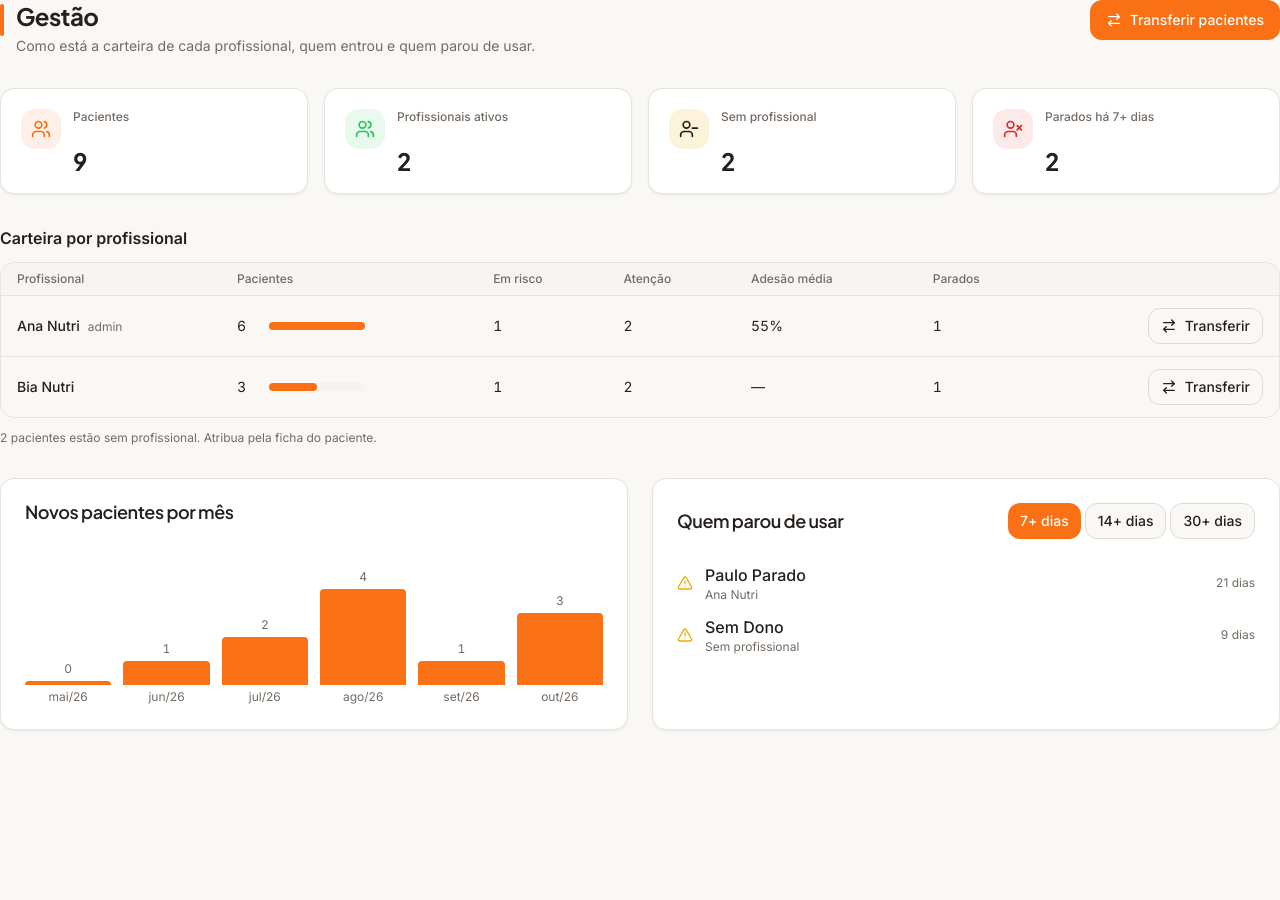
Test: ManagementPage › transferir sem destino ou sem seleção bloqueia
Click the button with aria-label "Transferir pacientes de Ana Nutri": click(1205, 326) [1148,308,1263,344]
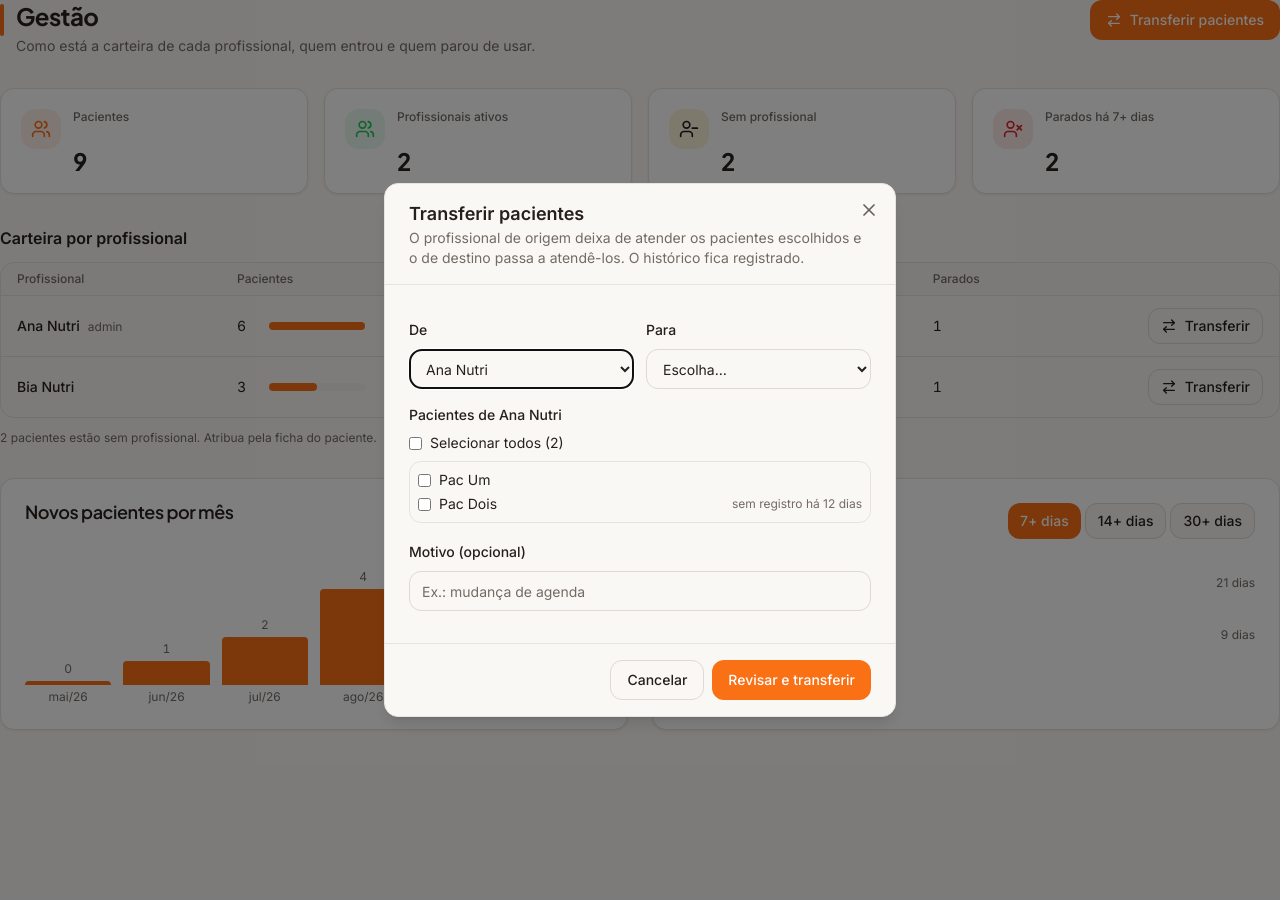
Result: the checkbox labelled "Pac Um" is shown at [418,474,431,486]
Click the button "Revisar e transferir": click(792, 680) [712,660,871,700]
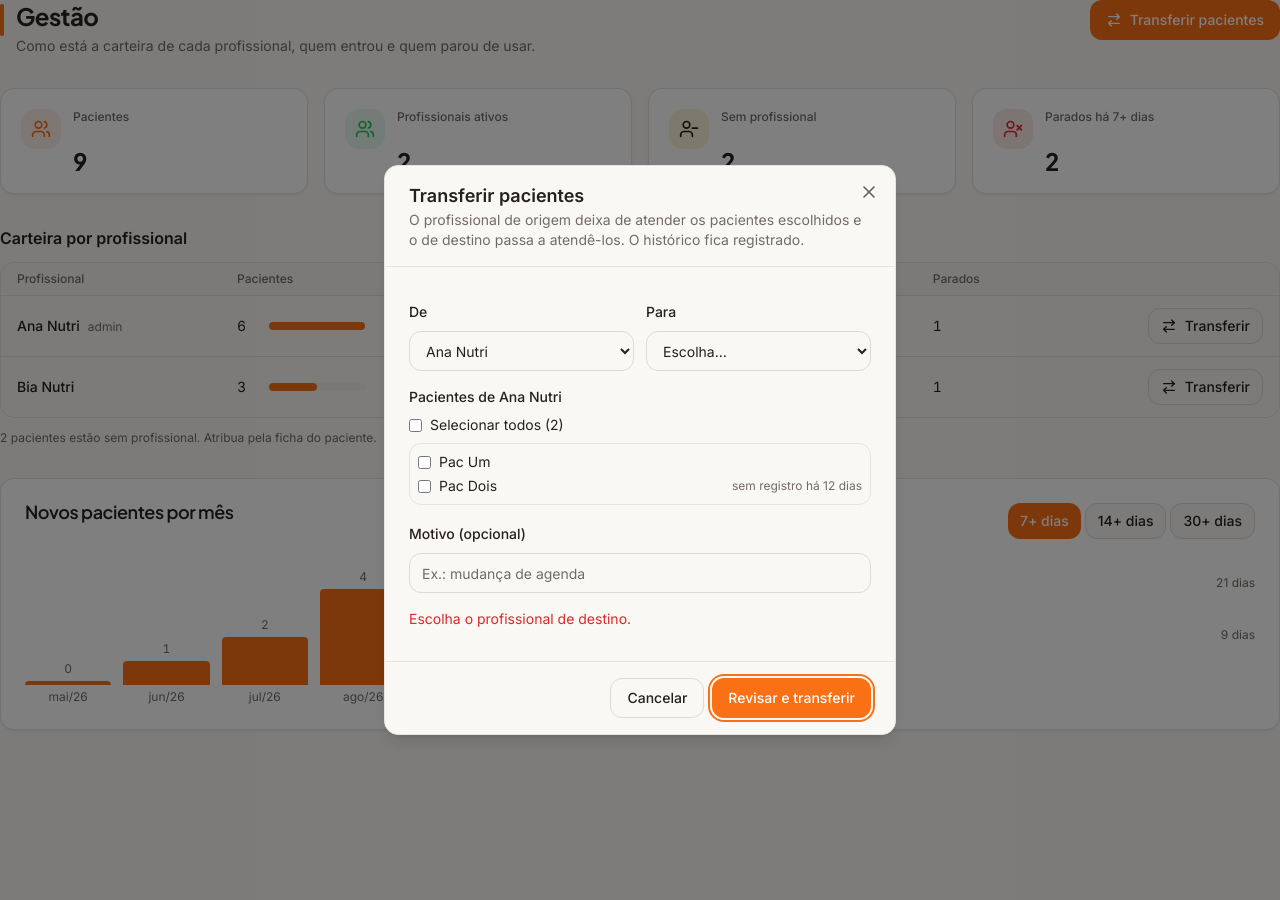
Result: the message shows "destino" at [409,610,631,627]
Select "Bia Nutri" in the dropdown labelled "Para": (758, 351) [646,331,871,371]
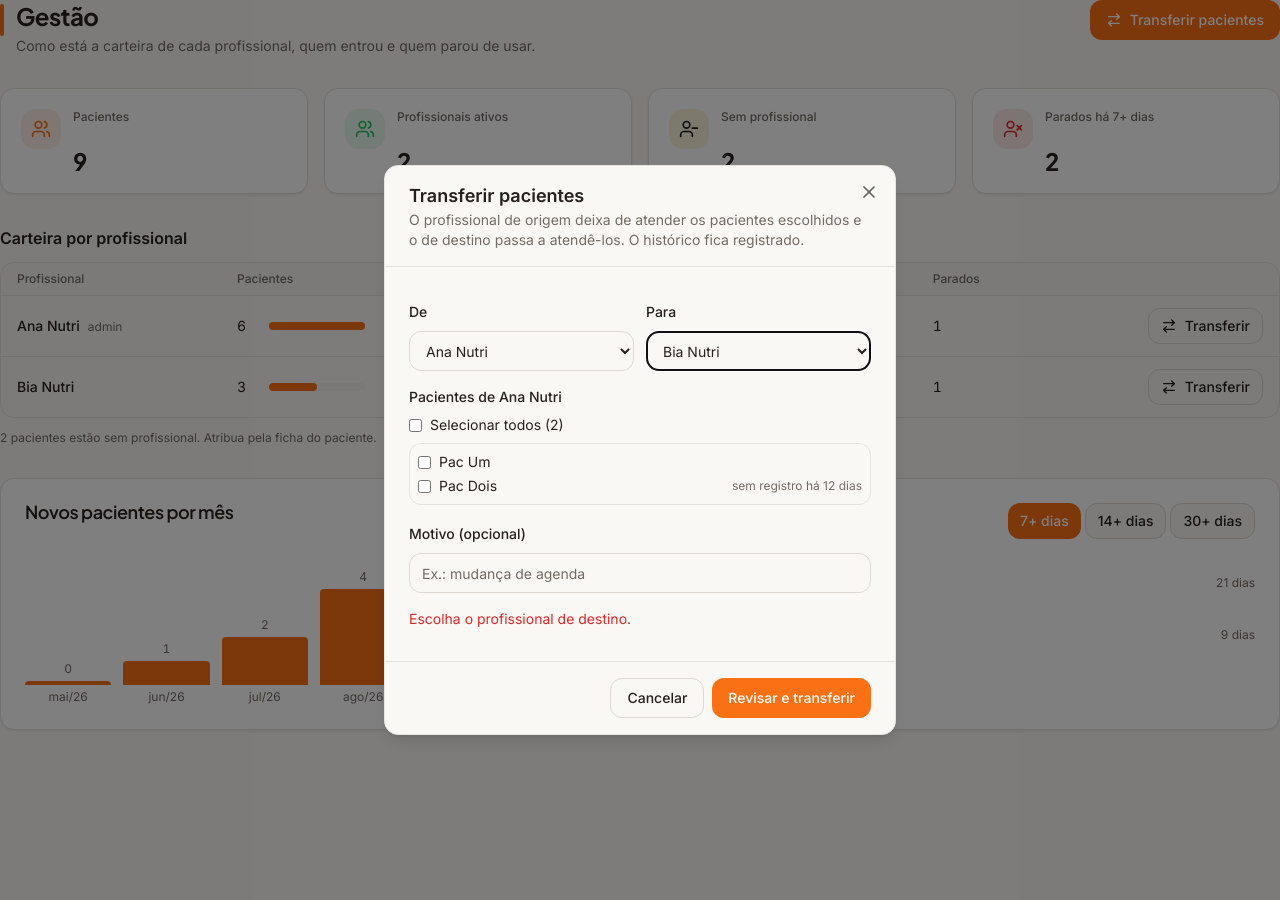
Click the button "Revisar e transferir": click(792, 698) [712,678,871,718]
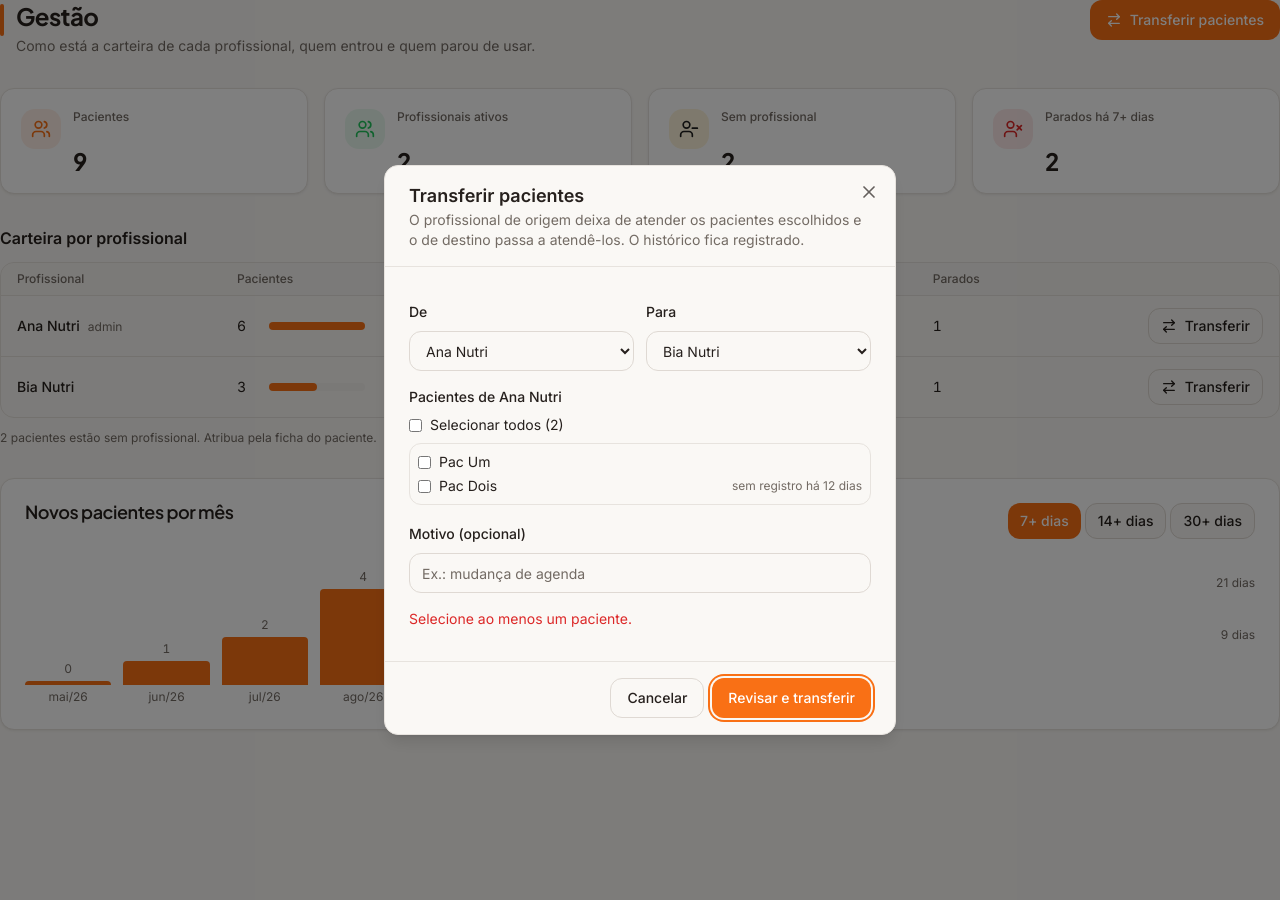
Result: the message shows "ao menos um paciente" at [409,610,632,627]
